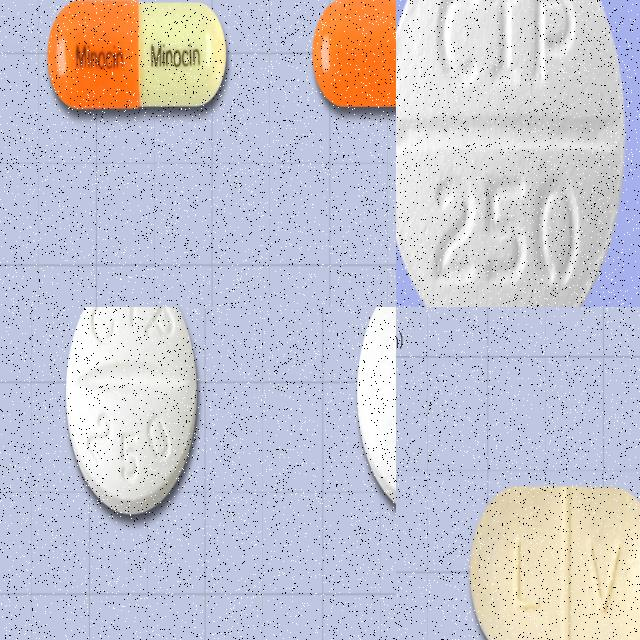Levostar: (469, 487, 640, 640)
Minocin Cap: (47, 0, 227, 111), (310, 0, 396, 108)
Propocin Tab: (66, 307, 198, 514), (356, 307, 396, 515)
Youngil Clarithromycin Tab: (396, 0, 626, 307)
